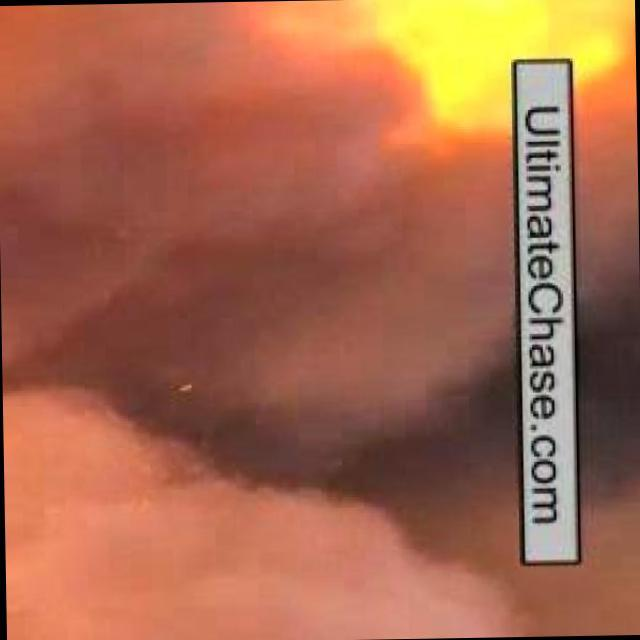Fire: (244, 1, 638, 168)
